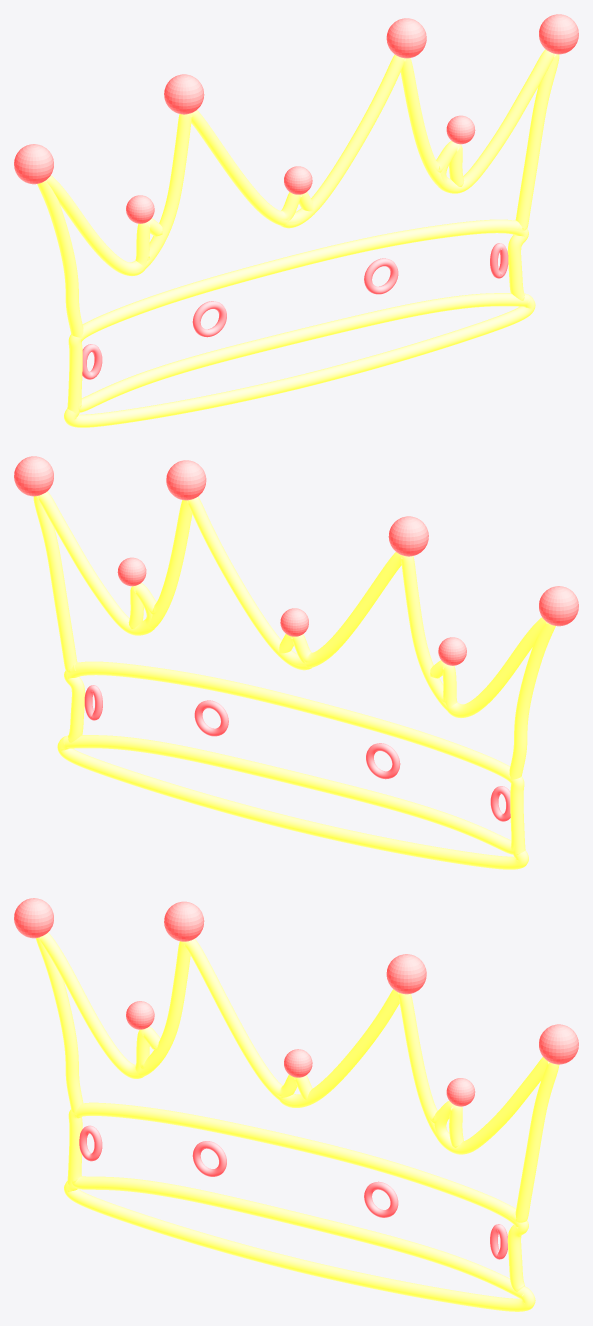
File: king_crown-neon_sign_wild_animal..glb
3 views of the same model, one above another, from view 1: azimuth 30°, elevation 25°; view 2: azimuth 150°, elevation 25°; view 3: azimuth 330°, elevation 25° (orthographic).
Parts seen in each view (by area): view 1: NurbsPath_0, Sphere.003_2, NurbsCircle_1; view 2: NurbsPath_0, Sphere.003_2, NurbsCircle_1; view 3: NurbsPath_0, Sphere.003_2, NurbsCircle_1.
Part boxes in pixels (x1=…): NurbsPath_0: x1=37, y1=49, x2=559, y2=427; Sphere.003_2: x1=14, y1=14, x2=578, y2=223; NurbsCircle_1: x1=82, y1=243, x2=508, y2=379; NurbsPath_0: x1=33, y1=491, x2=555, y2=869; Sphere.003_2: x1=14, y1=456, x2=578, y2=665; NurbsCircle_1: x1=84, y1=685, x2=510, y2=821; NurbsPath_0: x1=36, y1=932, x2=559, y2=1311; Sphere.003_2: x1=14, y1=898, x2=578, y2=1106; NurbsCircle_1: x1=79, y1=1125, x2=507, y2=1259.
Bounding box in the file's own units: 4.85 × 2.83 × 0.3022.
